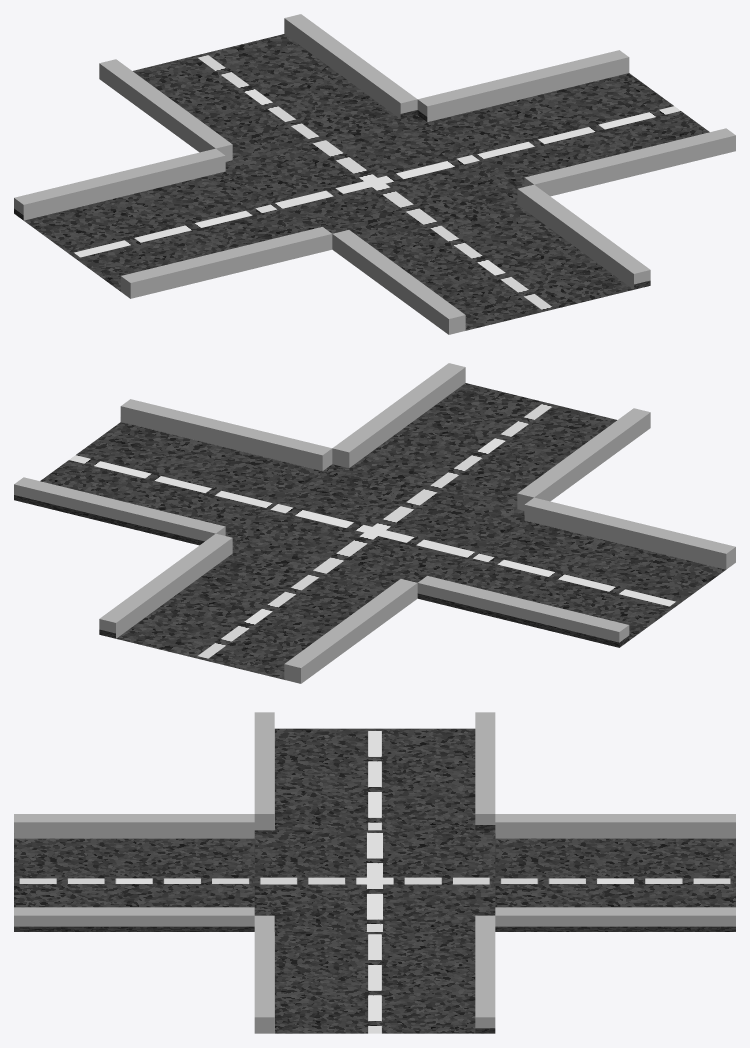
The model's file is RoadCross.fbx.
3 views of the same model, one above another, from view 1: azimuth 30°, elevation 25°; view 2: azimuth 150°, elevation 25°; view 3: azimuth 270°, elevation 25° (orthographic). The views are drawn at different scales.
Visible parts, largest first — view 1: RoadCross; view 2: RoadCross; view 3: RoadCross.
Part boxes in pixels (box(x1,y1,x2,y2)): RoadCross: box(14, 14, 735, 334); RoadCross: box(14, 363, 735, 683); RoadCross: box(14, 712, 735, 1033).
Bounding box in the file's own units: 120 × 3 × 120.
